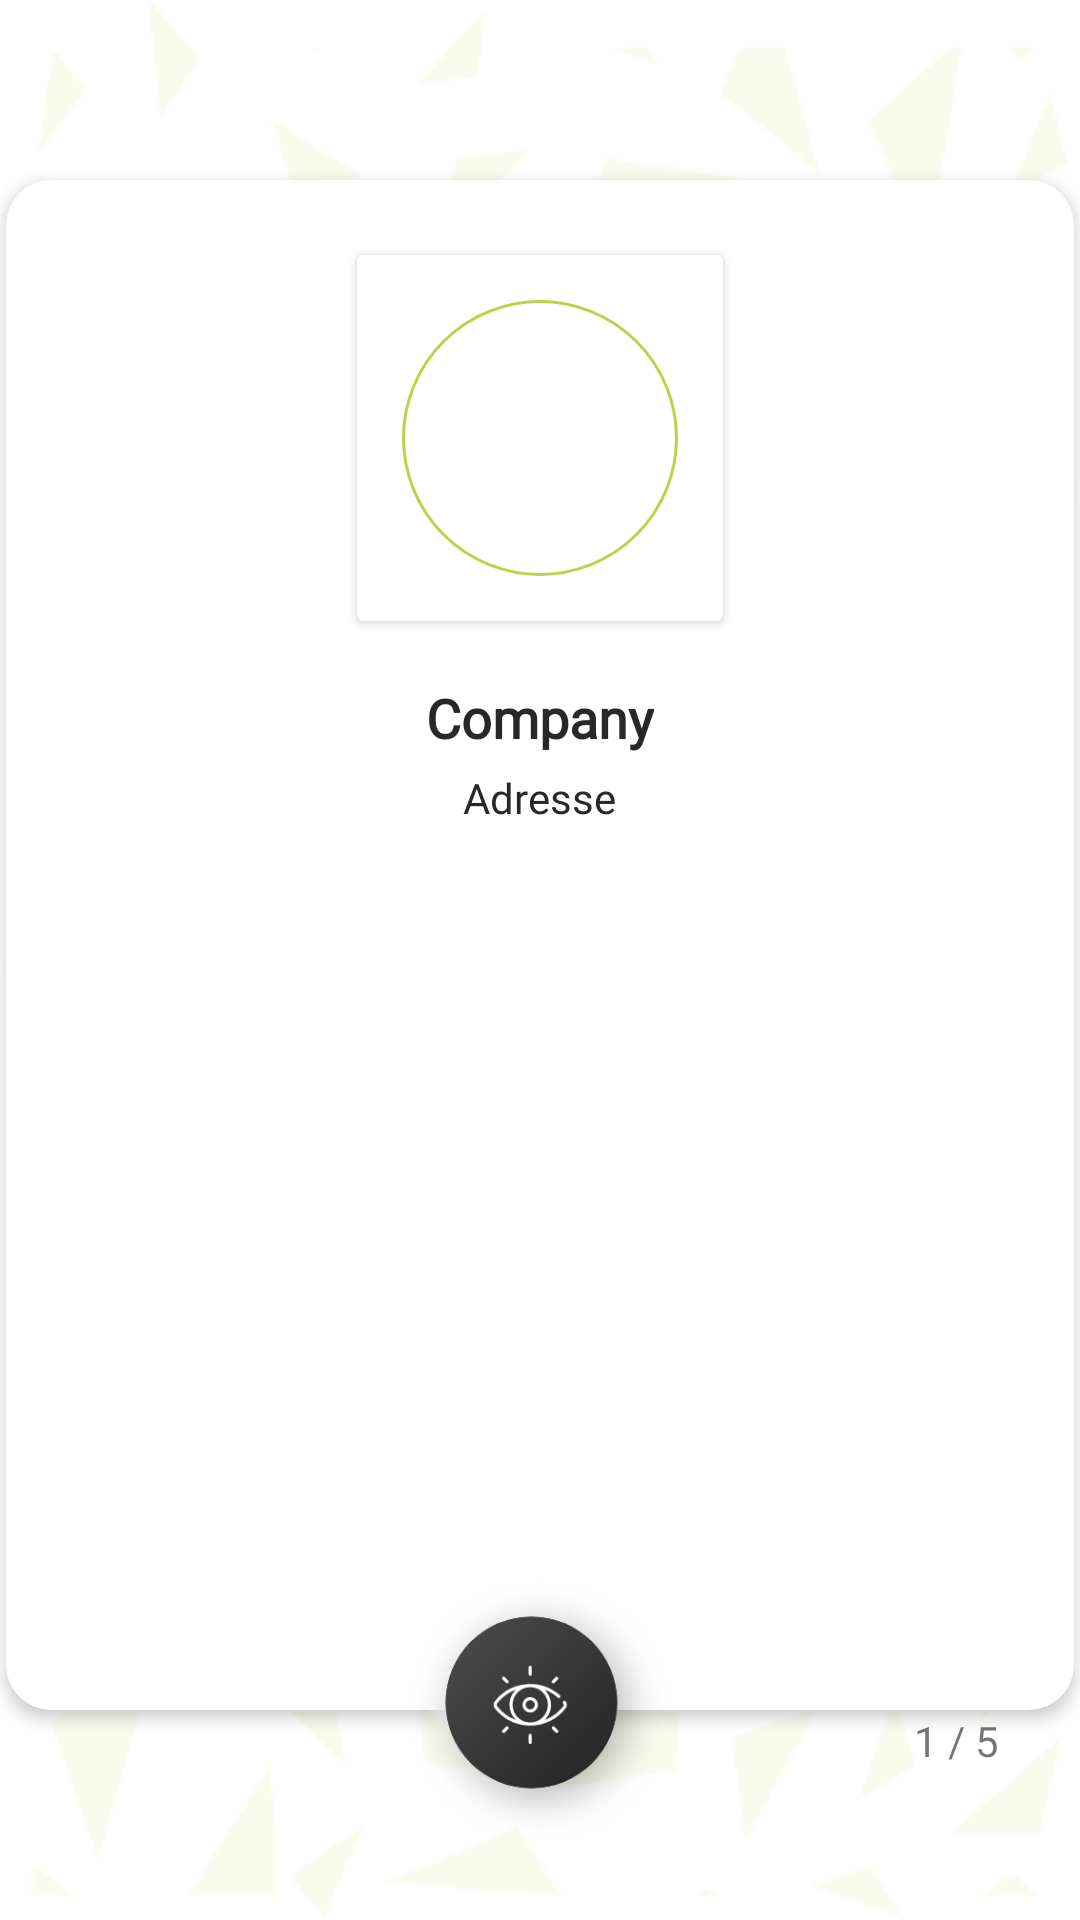

Icons on this 1080px x 1920px Android screen, each with the point to tap as [x,y]:
eye detail: [540,1710]
